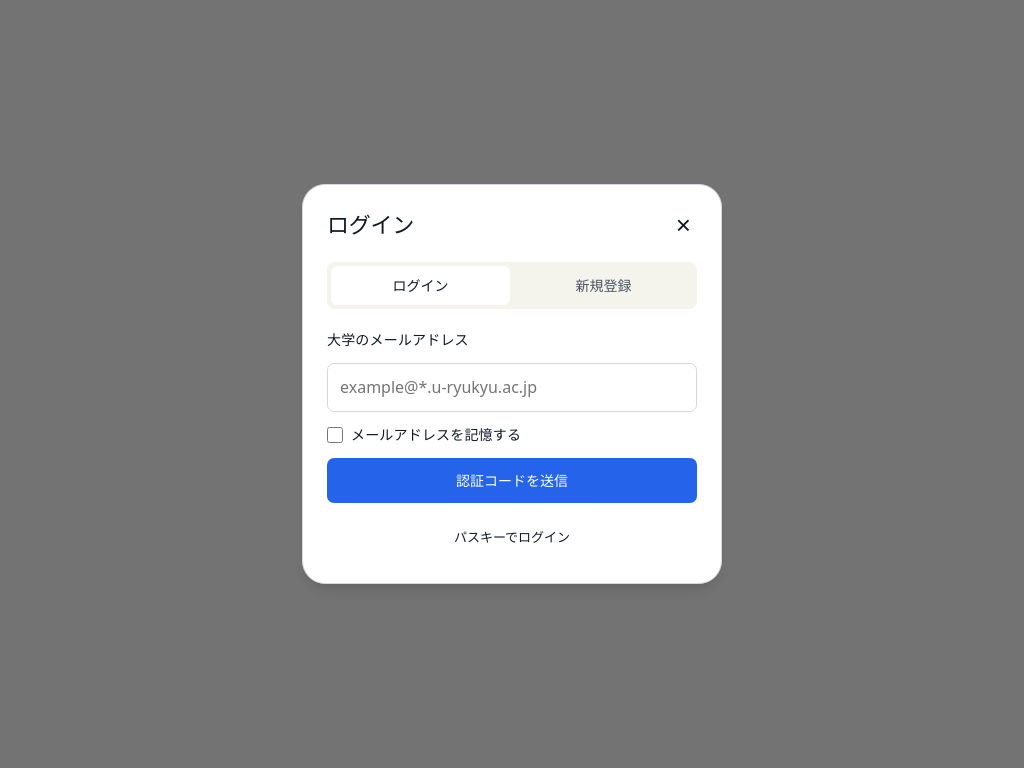
Test case: without a Site Key › shows a configuration error if the server already requires CAPTCHA
Type "student@ie.u-ryukyu.ac.jp" into the field labelled "大学のメールアドレス" at (512, 388), box [327,363,697,412]
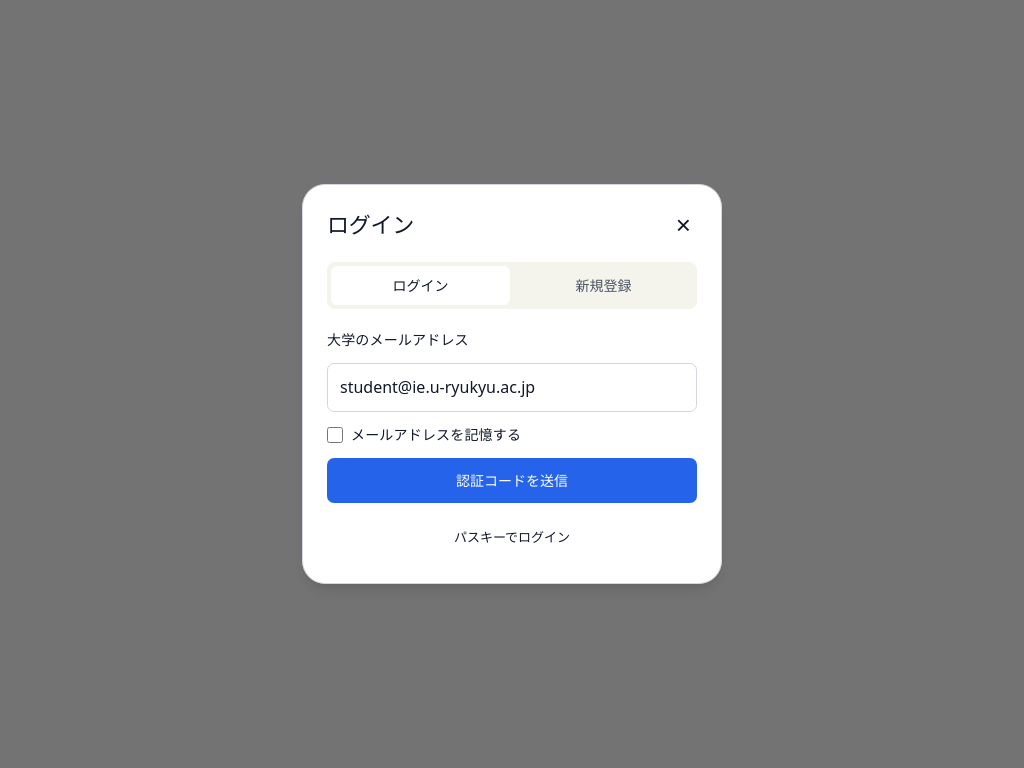
Click the button "認証コードを送信" at (512, 480), box [327,458,697,503]
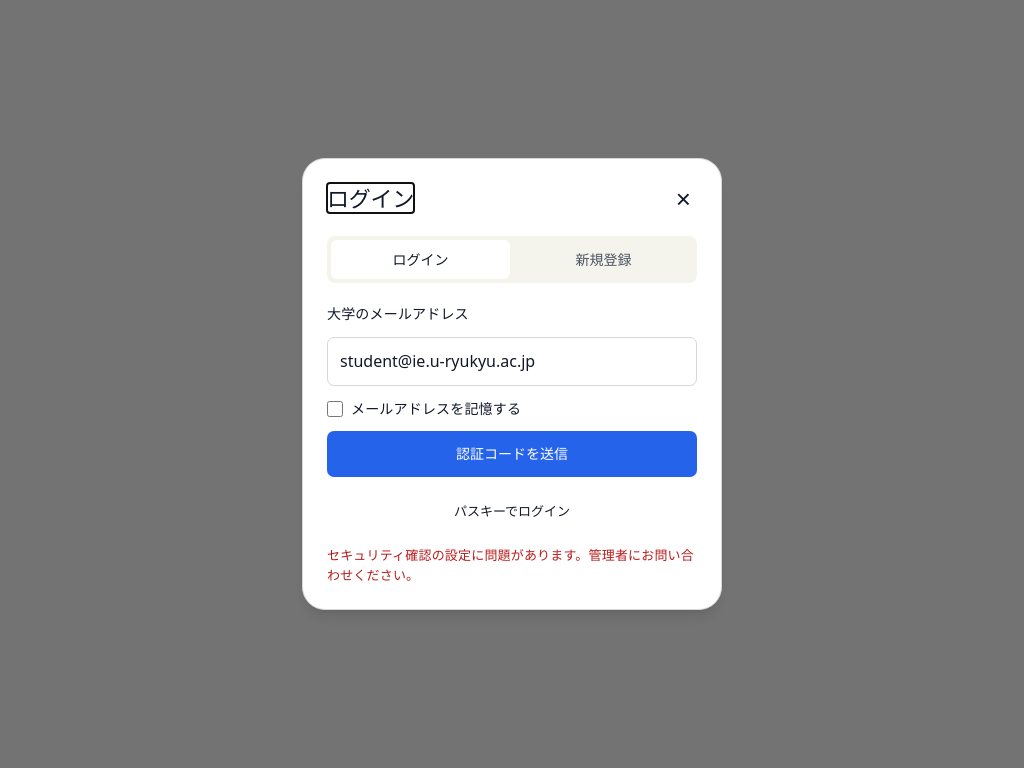
Expected: the message shows "設定に問題", [327,546,694,584]
